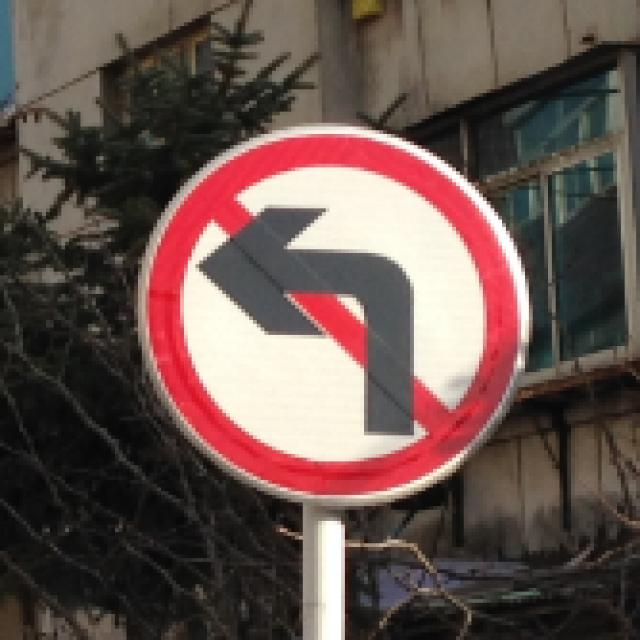Not that Direction: (134, 121, 534, 510)
